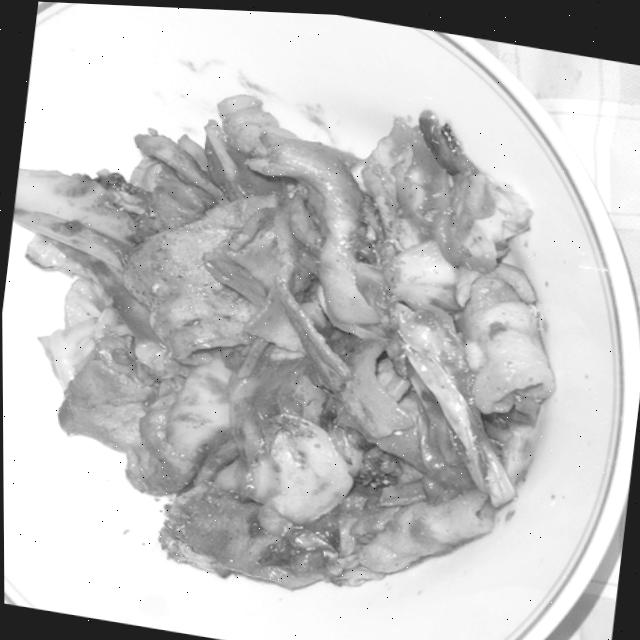猪肉菜式: (0, 23, 619, 640)
